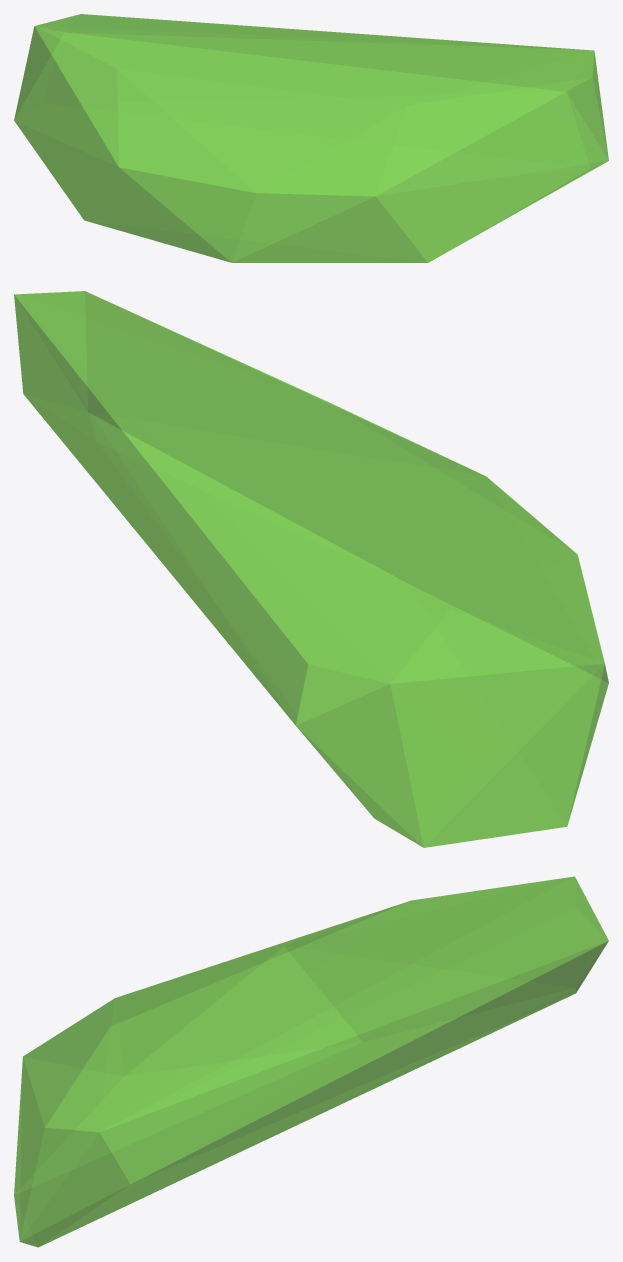
3 renders of one model, top to bottom at view 1: azimuth 30°, elevation 25°; view 2: azimuth 150°, elevation 25°; view 3: azimuth 270°, elevation 25°, orthographic. The views are drawn at different scales.
Visible parts, largest first — view 1: Shape_IndexedFaceSet.116_Shape_IndexedFaceSet.9406; view 2: Shape_IndexedFaceSet.116_Shape_IndexedFaceSet.9406; view 3: Shape_IndexedFaceSet.116_Shape_IndexedFaceSet.9406.
Part boxes in pixels (x1,y1,x2,y2): Shape_IndexedFaceSet.116_Shape_IndexedFaceSet.9406: [14, 14, 608, 262]; Shape_IndexedFaceSet.116_Shape_IndexedFaceSet.9406: [14, 291, 608, 847]; Shape_IndexedFaceSet.116_Shape_IndexedFaceSet.9406: [14, 876, 608, 1247].
Size of the model in its own units: 0.1991 by 0.0649 by 0.1776.
